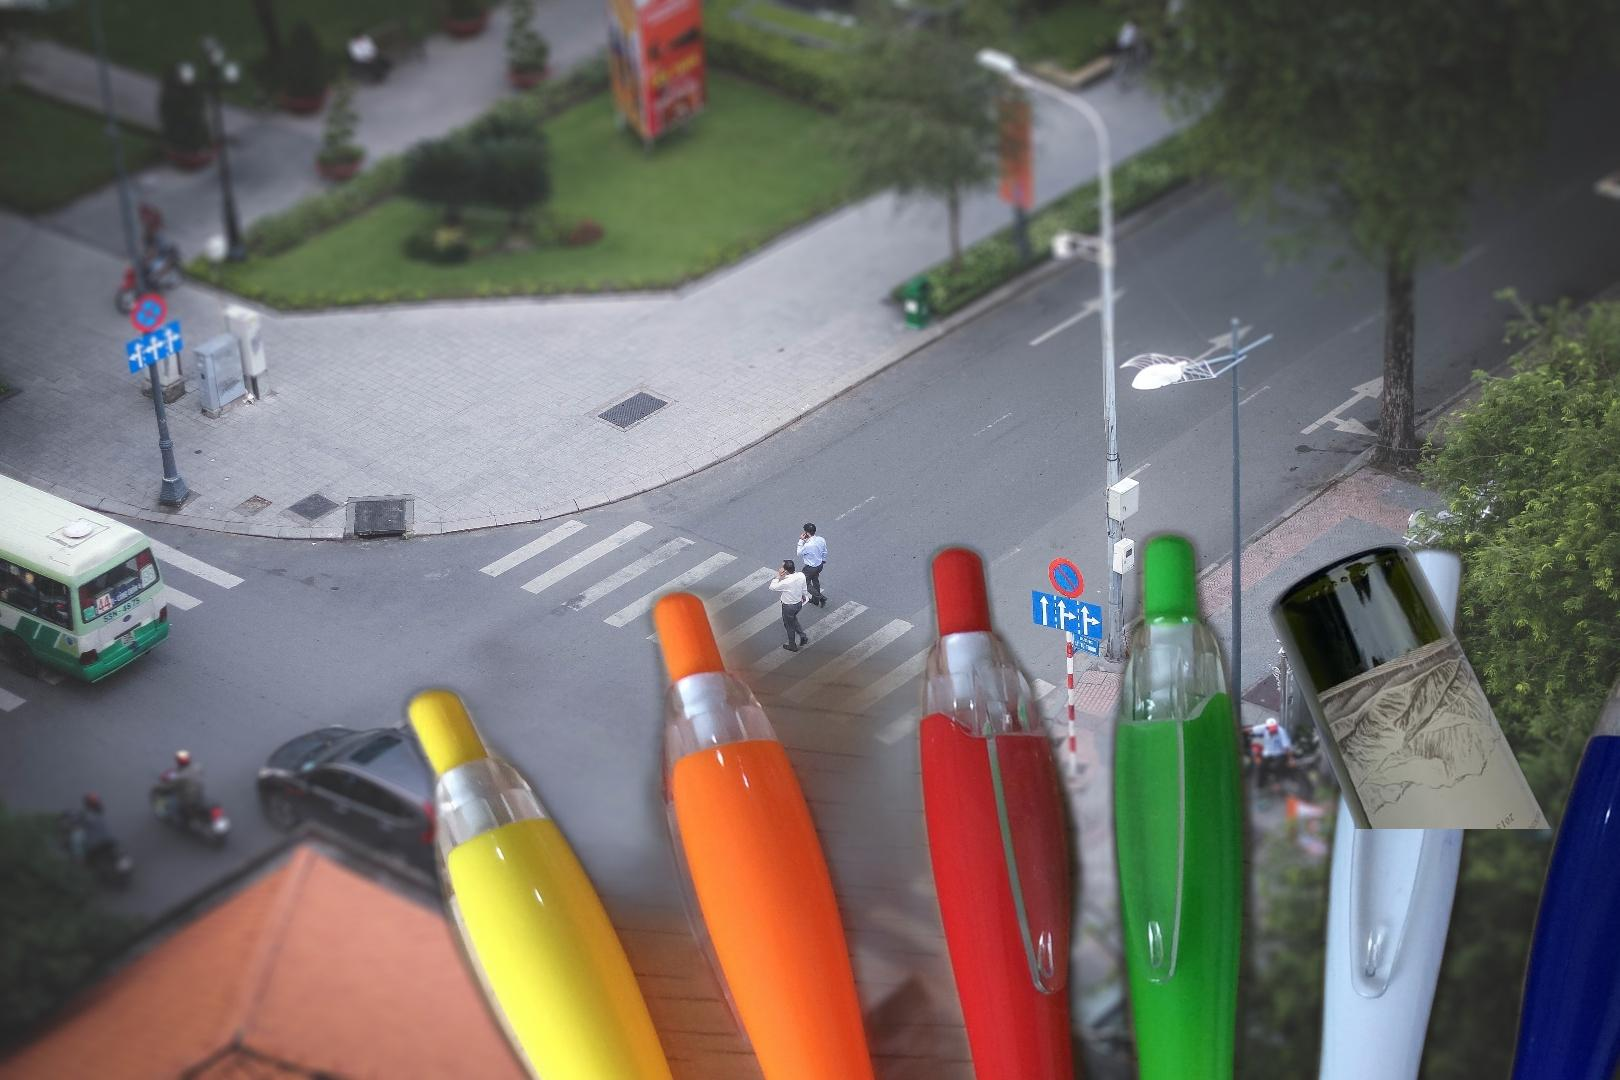glass: (1264, 541, 1556, 829)
penholder: (387, 419, 1620, 1080)
